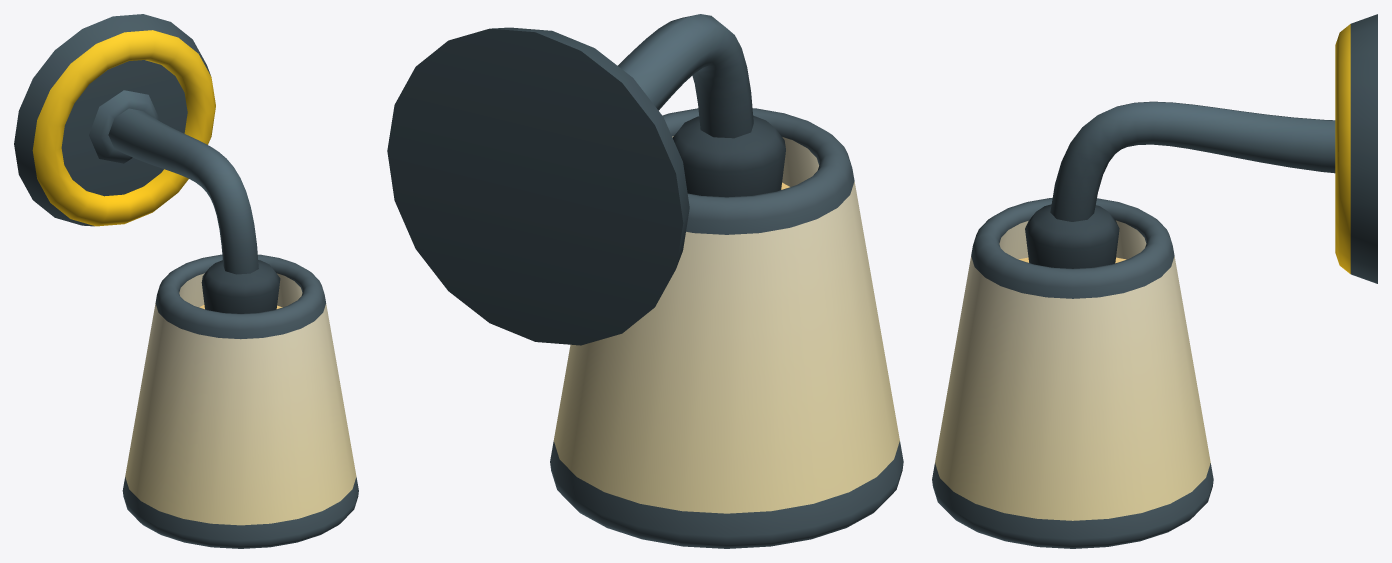
File: Light_09.glb
3 renders of one model, left to right at view 1: azimuth 30°, elevation 25°; view 2: azimuth 150°, elevation 25°; view 3: azimuth 270°, elevation 25°, orthographic. The views are drawn at different scales.
Parts seen in each view (by area): view 1: Light_09; view 2: Light_09; view 3: Light_09.
Boxes of the visible parts, x1,y1,x2,y2 form: Light_09: (14, 14, 358, 548); Light_09: (387, 14, 903, 548); Light_09: (932, 14, 1377, 548).
Bounding box in the file's own units: 0.1769 × 0.3243 × 0.28.
1 material, 1 textured.
